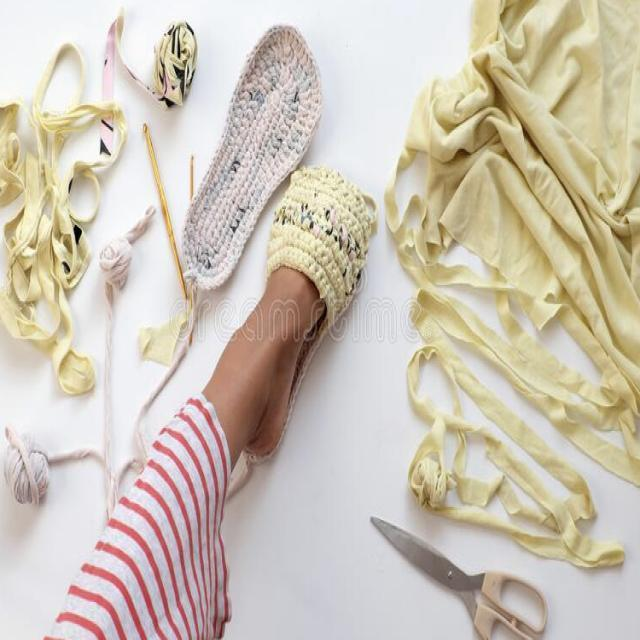clothes: (404, 0, 639, 517)
